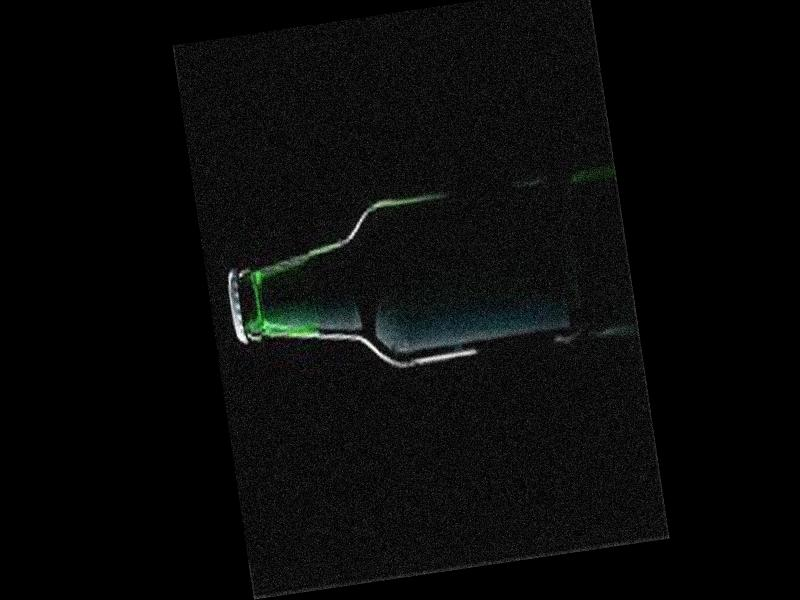Beer: (217, 175, 581, 397)
